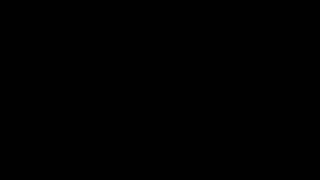go_ahead: (276, 20, 320, 56)
